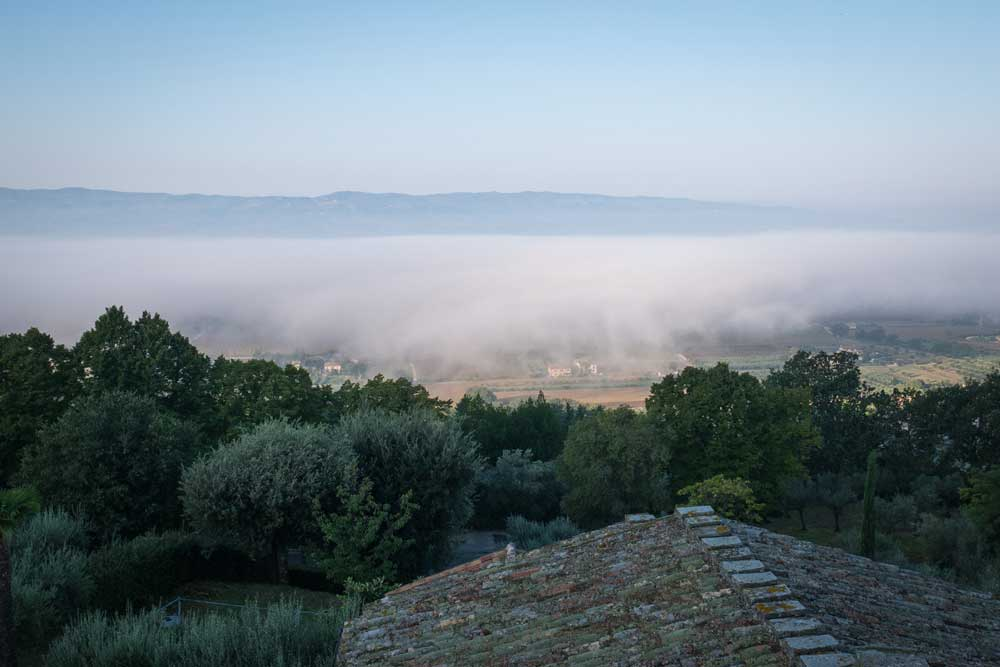Stratus: (4, 211, 1000, 352)
